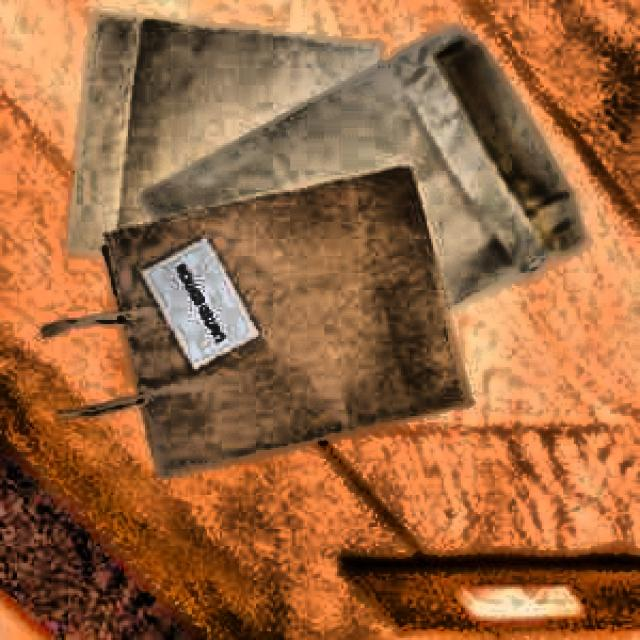Paper-bag: (131, 16, 588, 342), (57, 164, 481, 465), (60, 5, 400, 282)
